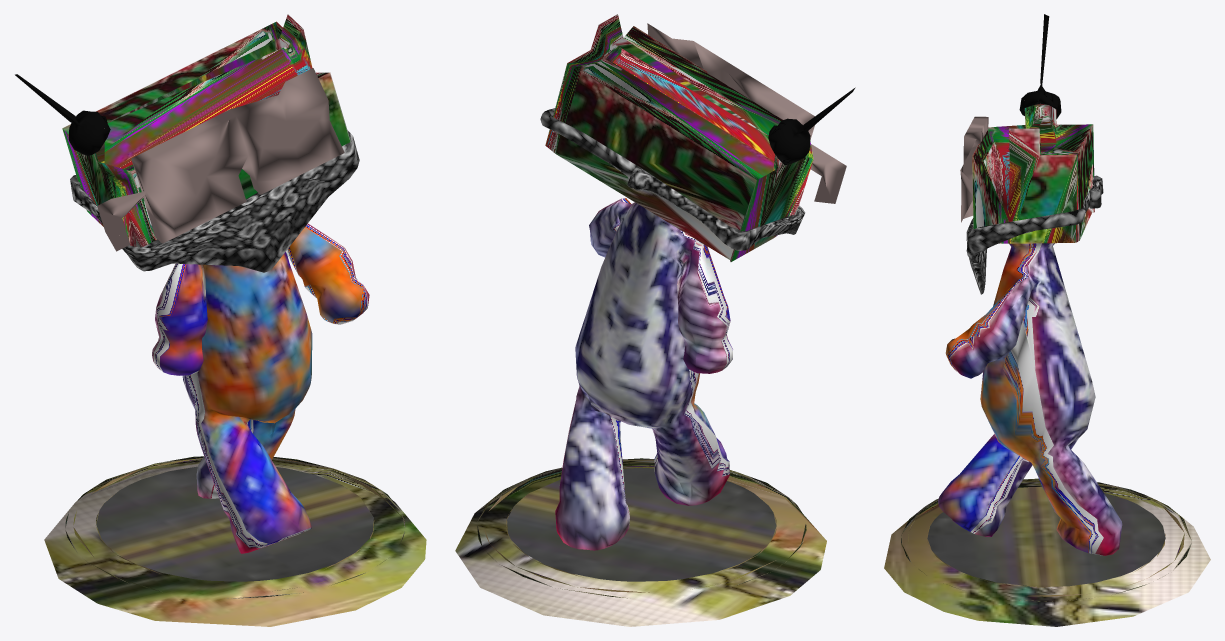
3 views of the same model, side by side, from view 1: azimuth 30°, elevation 25°; view 2: azimuth 150°, elevation 25°; view 3: azimuth 270°, elevation 25° (orthographic). The views are drawn at different scales.
Bounding box in the file's own units: 1.68 × 2.19 × 1.44.
Materials: 7 (6 with a texture image).
